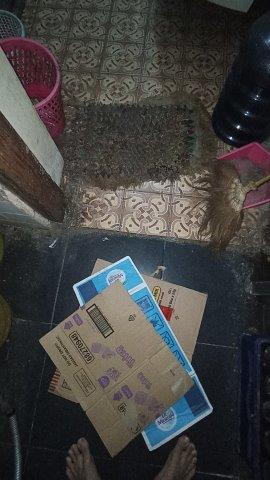kardus: (41, 258, 212, 456)
